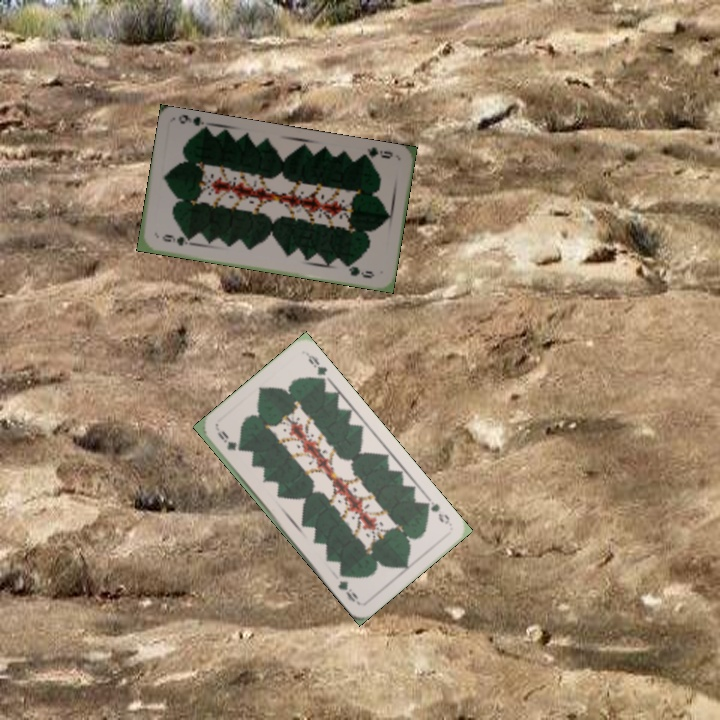G9: (420, 494, 452, 527), (358, 143, 395, 162), (213, 427, 239, 453), (158, 231, 194, 248)
